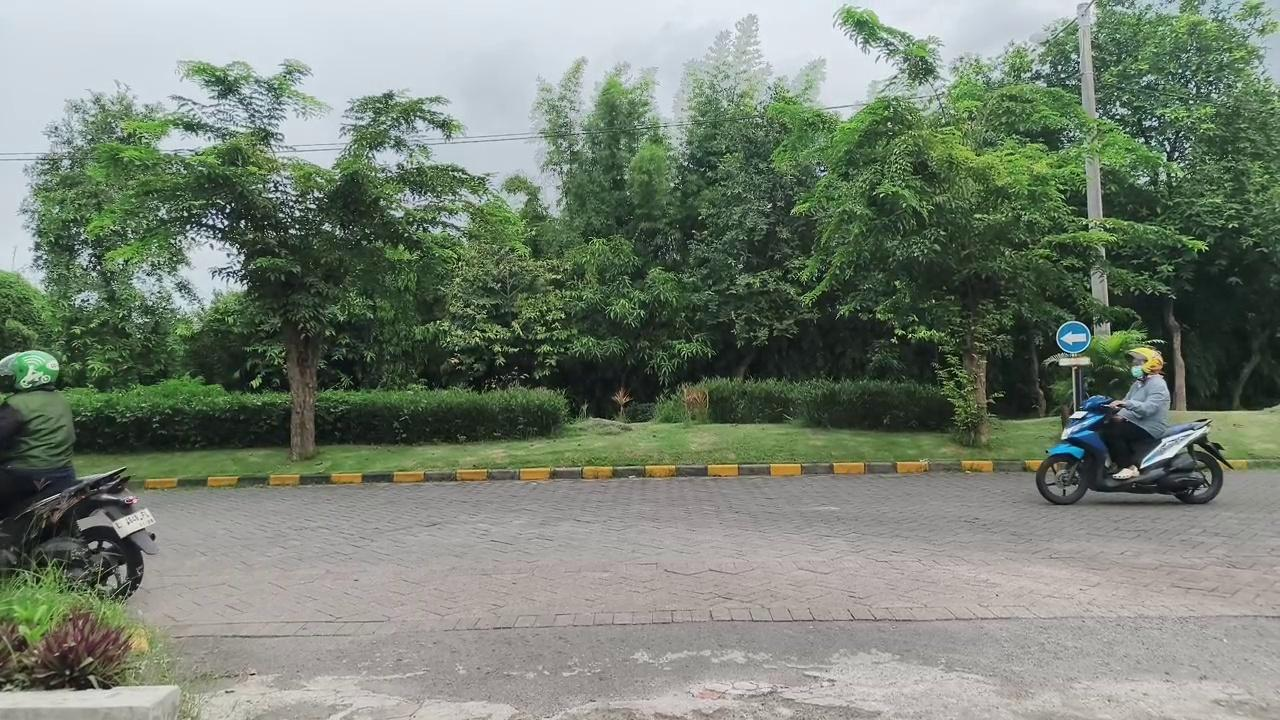Helmet: (0, 351, 76, 521), (1103, 347, 1170, 480)
Motor: (1036, 396, 1230, 504), (0, 468, 157, 599)
